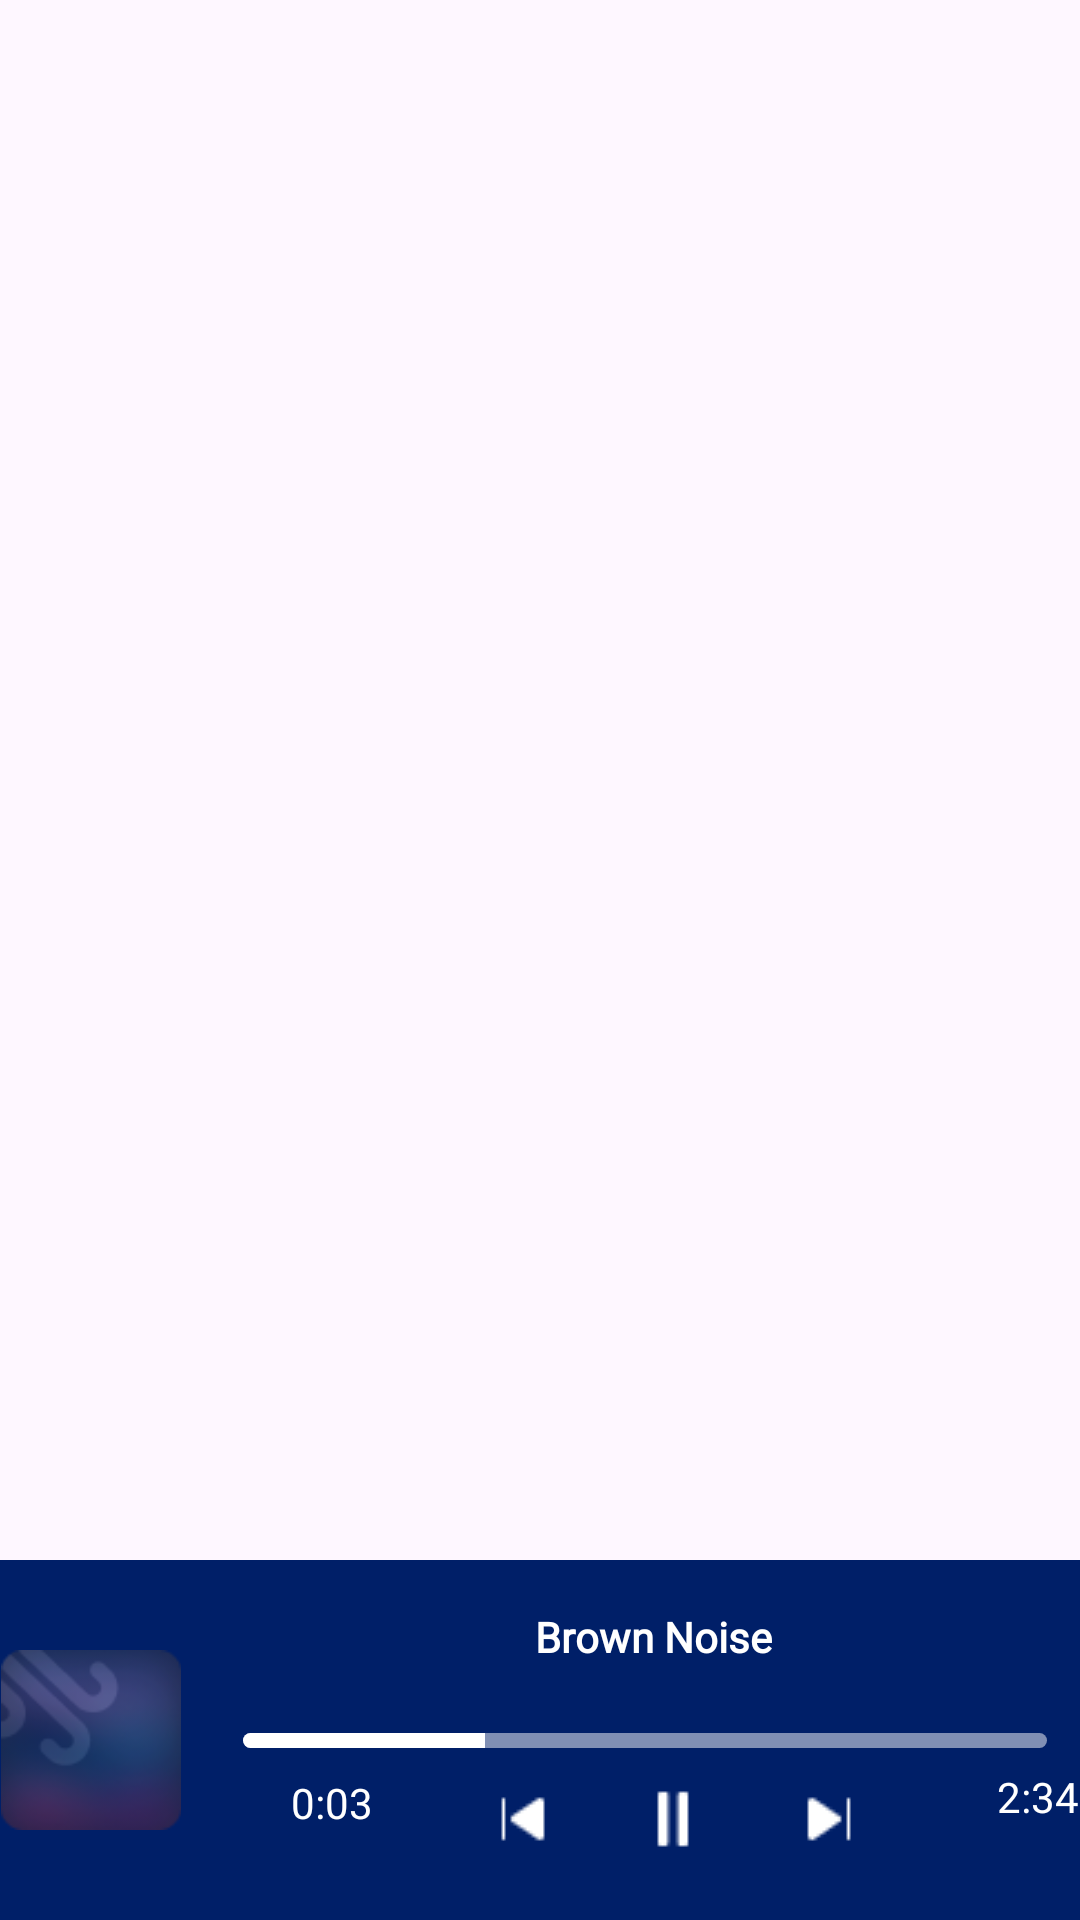

Point at icon controls on the screen. Image size 1080×1920, points as point (x, y).
nextbutton: point (829, 1819)
pausebutton: point (673, 1819)
previousbutton: point (523, 1819)
